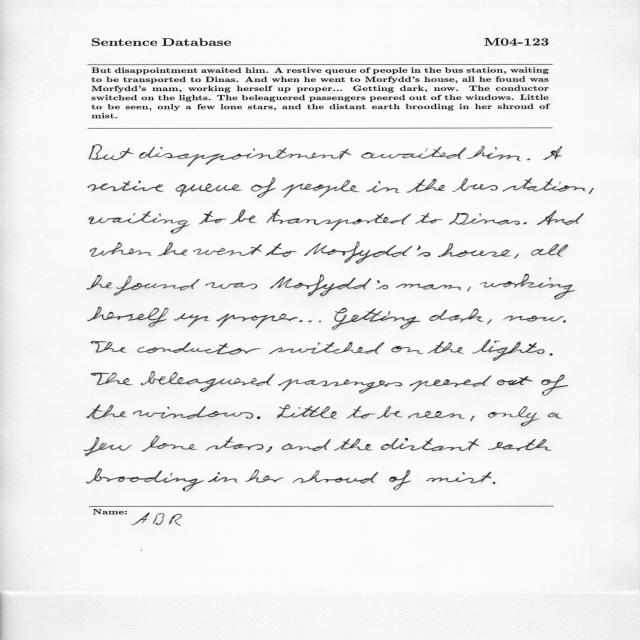word: (139, 147, 351, 167), (266, 209, 411, 231), (141, 371, 275, 392), (304, 242, 430, 264), (87, 469, 204, 492), (270, 274, 389, 296), (480, 274, 575, 299), (89, 211, 190, 234), (332, 308, 421, 330), (278, 379, 402, 393), (114, 276, 200, 296), (88, 307, 169, 327), (137, 342, 261, 355), (472, 339, 545, 361), (133, 406, 253, 419), (282, 180, 360, 198), (409, 375, 491, 392), (269, 342, 384, 354), (361, 147, 466, 160), (381, 438, 479, 451), (216, 314, 298, 329), (293, 470, 378, 484), (502, 178, 586, 192), (488, 406, 540, 427), (438, 243, 511, 257), (90, 242, 152, 257), (85, 437, 133, 456), (88, 180, 163, 192), (142, 436, 198, 452), (206, 436, 264, 451), (176, 184, 242, 197), (449, 213, 520, 225), (277, 405, 337, 419), (193, 244, 262, 256), (467, 146, 521, 161), (429, 309, 484, 323), (488, 439, 552, 451), (426, 472, 492, 483), (537, 210, 584, 225), (89, 145, 134, 160), (452, 178, 498, 192), (541, 374, 568, 396), (282, 439, 331, 451), (87, 405, 127, 419), (406, 179, 445, 193), (91, 373, 133, 386), (251, 177, 276, 198), (246, 470, 284, 483), (174, 313, 209, 327), (531, 244, 568, 257), (427, 341, 464, 354), (389, 470, 411, 491), (408, 411, 465, 419), (334, 439, 372, 451), (265, 243, 297, 257), (91, 341, 127, 353), (158, 242, 188, 256), (230, 209, 257, 224), (366, 181, 399, 193), (396, 284, 462, 290), (346, 406, 376, 419), (87, 275, 112, 290), (503, 316, 564, 322), (199, 211, 227, 224), (205, 282, 257, 289), (497, 376, 533, 386), (208, 472, 238, 483), (377, 406, 402, 419), (543, 146, 563, 160), (416, 213, 443, 223), (391, 346, 424, 354), (548, 413, 562, 419), (299, 320, 321, 322), (266, 447, 272, 453), (589, 188, 594, 194), (470, 416, 475, 422), (514, 254, 519, 259), (487, 319, 492, 324), (467, 287, 471, 292), (549, 353, 553, 356), (563, 320, 566, 323), (257, 416, 260, 419), (523, 222, 527, 224), (527, 159, 530, 161), (493, 482, 495, 484)
